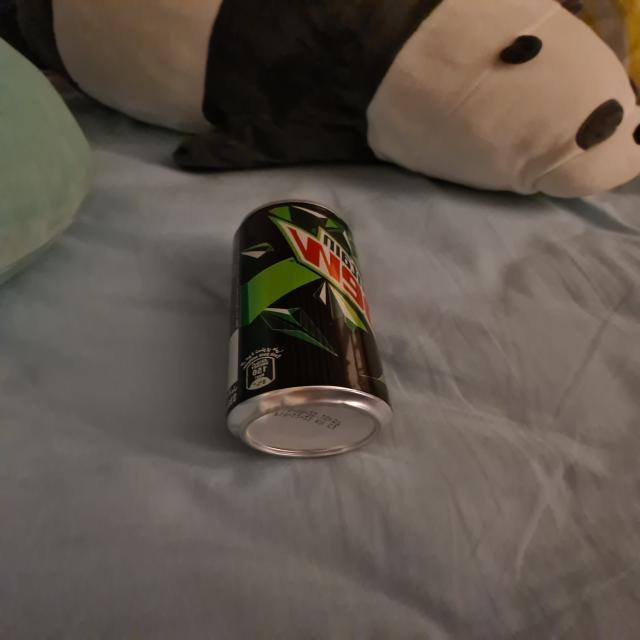can: (218, 195, 398, 466)
